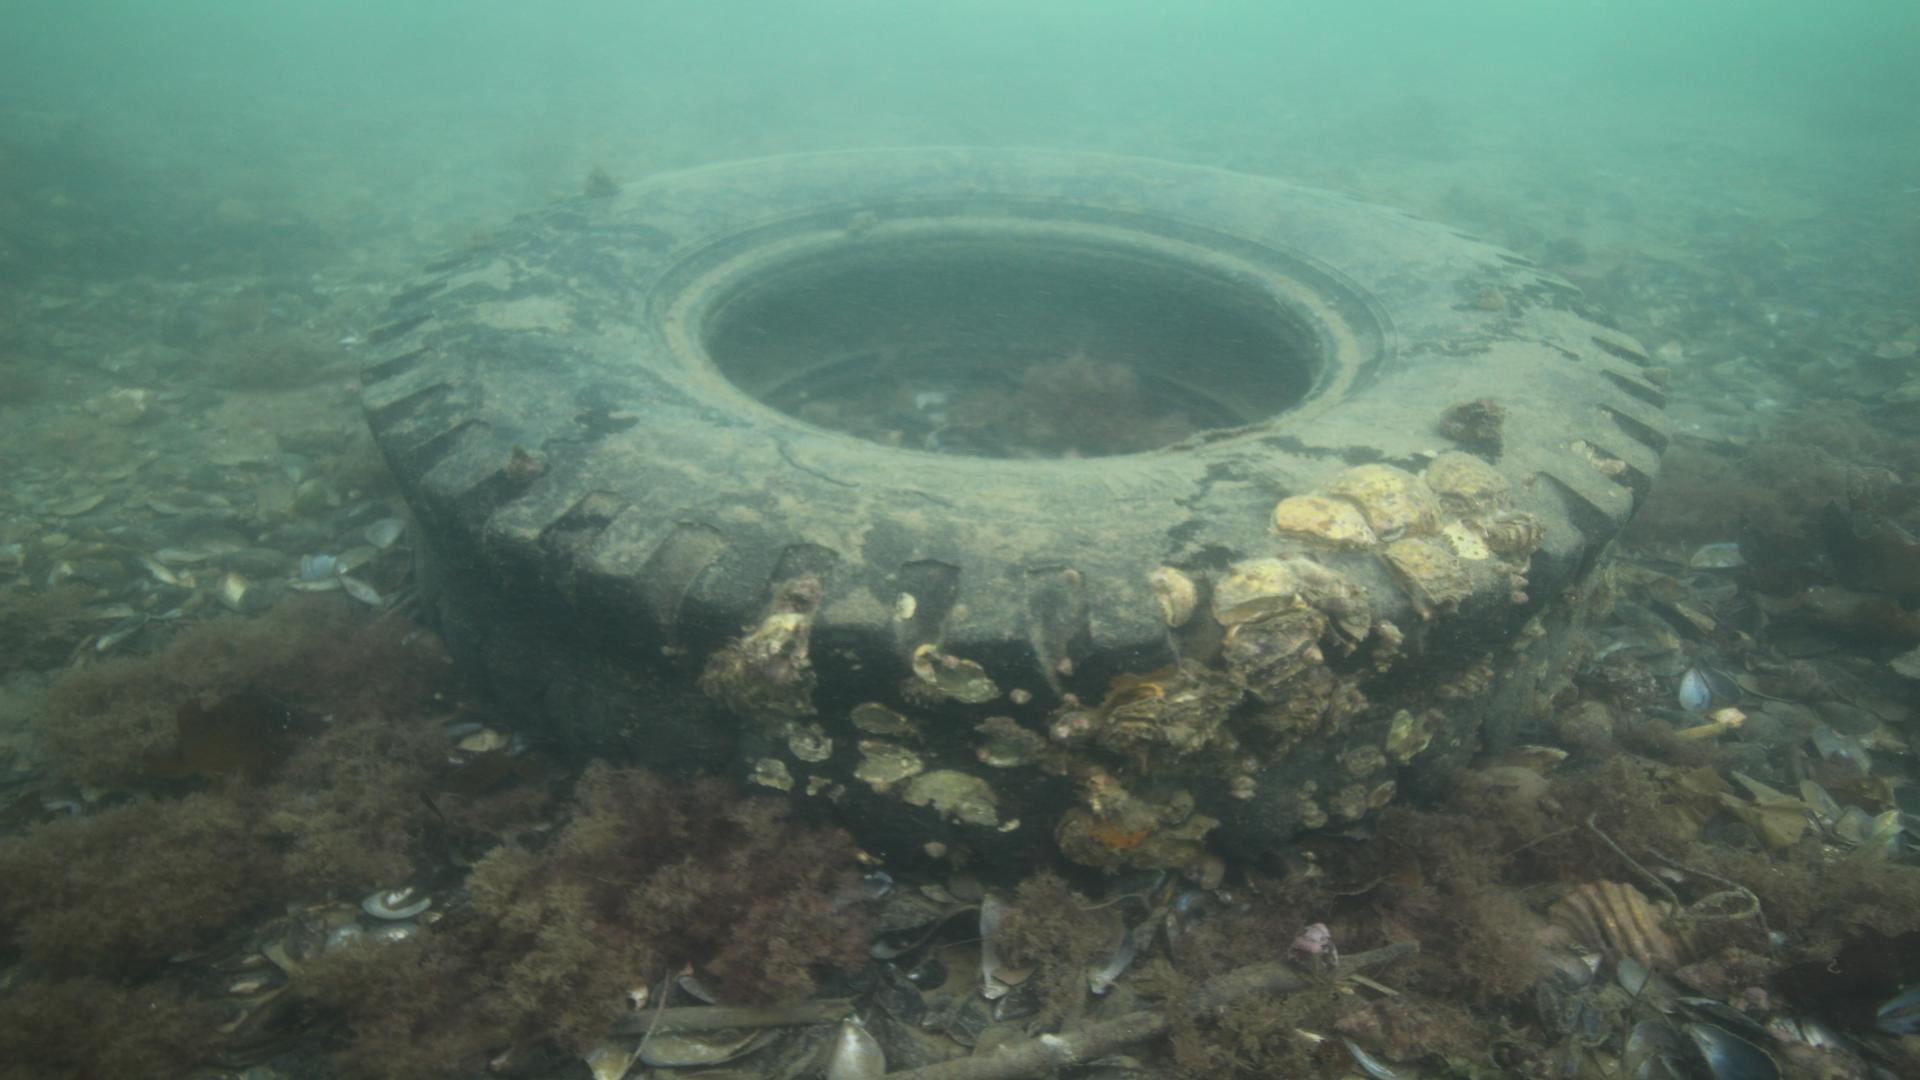tire: (356, 141, 1673, 884)
